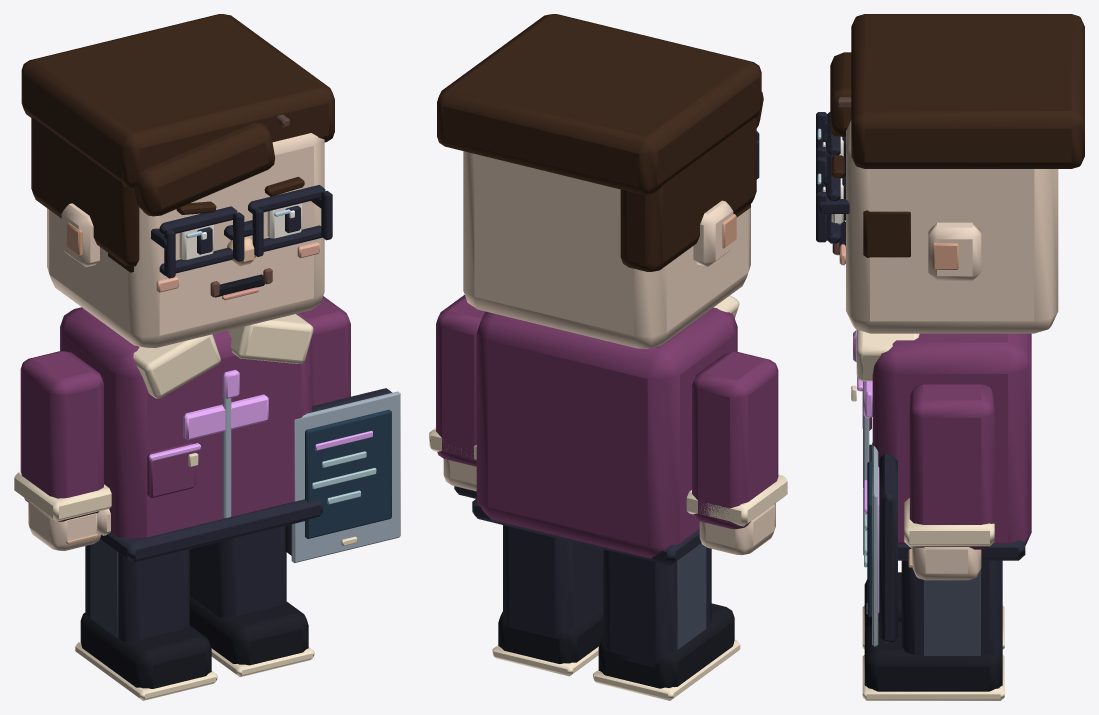
Rendered from cristian.glb.
The picture shows the model from 3 angles, left to right: view 1: azimuth 30°, elevation 25°; view 2: azimuth 150°, elevation 25°; view 3: azimuth 270°, elevation 25°; orthographic projection. The views are drawn at different scales.
Parts seen in each view (by area): view 1: Batch_Head_CITY / #3b2416, Batch_Body_CITY / #7a3b6b, Batch_Head_CITY / #f1d9c5.010, Arm_L_sleeve, Batch_Arm_R_CITY / #253d51.002, Leg_R_trouser, Batch_Body_CITY / cream.010, Batch_Head_CITY / charcoal.010, Leg_L_trouser, Batch_Arm_R_CITY / metal.010, Leg_L_shoe, Leg_R_shoe (+13 smaller); view 2: Batch_Head_CITY / #3b2416, Batch_Body_CITY / #7a3b6b, Batch_Head_CITY / #f1d9c5.010, Arm_L_sleeve, Leg_R_trouser, Leg_L_trouser, Arm_R_sleeve, Leg_L_shoe, Leg_R_shoe, Batch_Leg_L_CITY / #475061.010, Arm_L_hand, Batch_Arm_L_CITY / cream.010 (+4 smaller); view 3: Batch_Head_CITY / #3b2416, Batch_Head_CITY / #f1d9c5.010, Batch_Body_CITY / #7a3b6b, Arm_R_sleeve, Leg_R_shoe, Batch_Leg_R_CITY / #475061.010, Leg_R_trouser, Batch_Arm_R_CITY / charcoal.010, Batch_Head_CITY / charcoal.010, Arm_R_hand, Batch_Arm_R_CITY / cream.010, Batch_Leg_R_CITY / cream.010 (+9 smaller).
Part boxes in pixels (box(x1,y1,x2,y2)): Batch_Head_CITY / #3b2416: box(21, 14, 334, 272); Batch_Body_CITY / #7a3b6b: box(60, 307, 311, 538); Batch_Head_CITY / #f1d9c5.010: box(47, 133, 324, 348); Arm_L_sleeve: box(20, 351, 103, 521); Batch_Arm_R_CITY / #253d51.002: box(305, 409, 391, 538); Leg_R_trouser: box(189, 526, 286, 618); Batch_Body_CITY / cream.010: box(133, 314, 313, 466); Batch_Head_CITY / charcoal.010: box(151, 185, 332, 278); Leg_L_trouser: box(85, 545, 189, 641); Batch_Arm_R_CITY / metal.010: box(291, 391, 400, 562); Leg_L_shoe: box(80, 612, 211, 688); Leg_R_shoe: box(189, 596, 308, 665); Batch_Head_CITY / #3b2416: box(437, 14, 763, 271); Batch_Body_CITY / #7a3b6b: box(476, 307, 737, 558); Batch_Head_CITY / #f1d9c5.010: box(463, 151, 750, 348); Arm_L_sleeve: box(692, 352, 778, 529); Leg_R_trouser: box(503, 525, 603, 638); Leg_L_trouser: box(603, 547, 711, 667); Arm_R_sleeve: box(436, 295, 485, 466); Leg_L_shoe: box(598, 603, 734, 688); Leg_R_shoe: box(498, 605, 603, 663); Batch_Leg_L_CITY / #475061.010: box(677, 543, 706, 649); Arm_L_hand: box(699, 503, 775, 555); Batch_Arm_L_CITY / cream.010: box(686, 474, 787, 526); Batch_Head_CITY / #3b2416: box(830, 14, 1084, 257); Batch_Head_CITY / #f1d9c5.010: box(846, 120, 1058, 333); Batch_Body_CITY / #7a3b6b: box(862, 333, 1031, 545); Arm_R_sleeve: box(909, 384, 994, 549); Leg_R_shoe: box(864, 621, 1002, 691); Batch_Leg_R_CITY / #475061.010: box(923, 569, 980, 655); Leg_R_trouser: box(901, 560, 1002, 658); Batch_Arm_R_CITY / charcoal.010: box(879, 454, 897, 642); Batch_Head_CITY / charcoal.010: box(816, 112, 849, 243); Arm_R_hand: box(912, 546, 981, 580); Batch_Arm_R_CITY / cream.010: box(866, 498, 994, 613); Batch_Leg_R_CITY / cream.010: box(862, 655, 1004, 700).
Size of the model in its own units: 0.751 by 1.24 by 0.5065.
